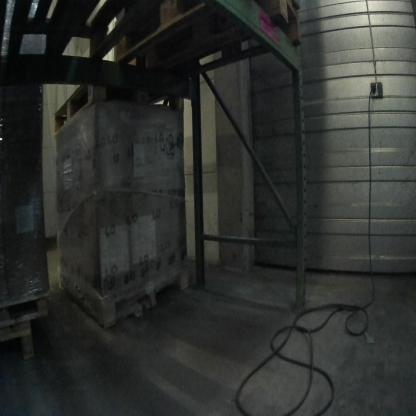pallet: (105, 6, 307, 85), (58, 244, 195, 337), (17, 1, 157, 55), (0, 285, 57, 340)
